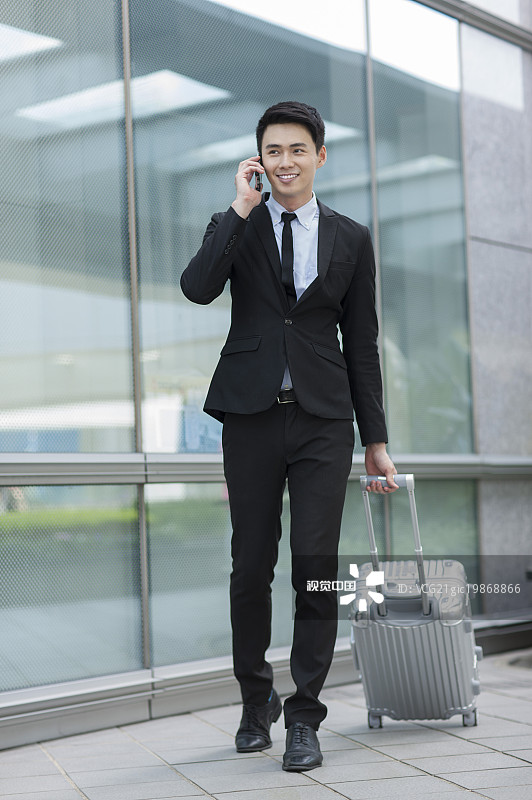calling: (226, 147, 269, 222)
no-phone: (347, 436, 430, 520)
